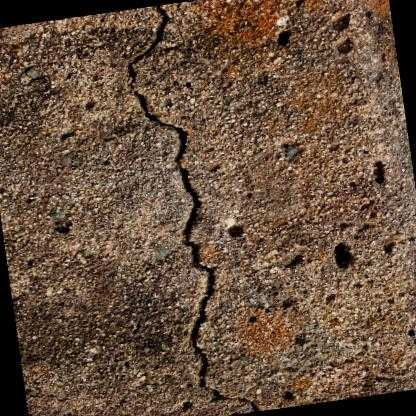crack: (127, 5, 259, 412)
